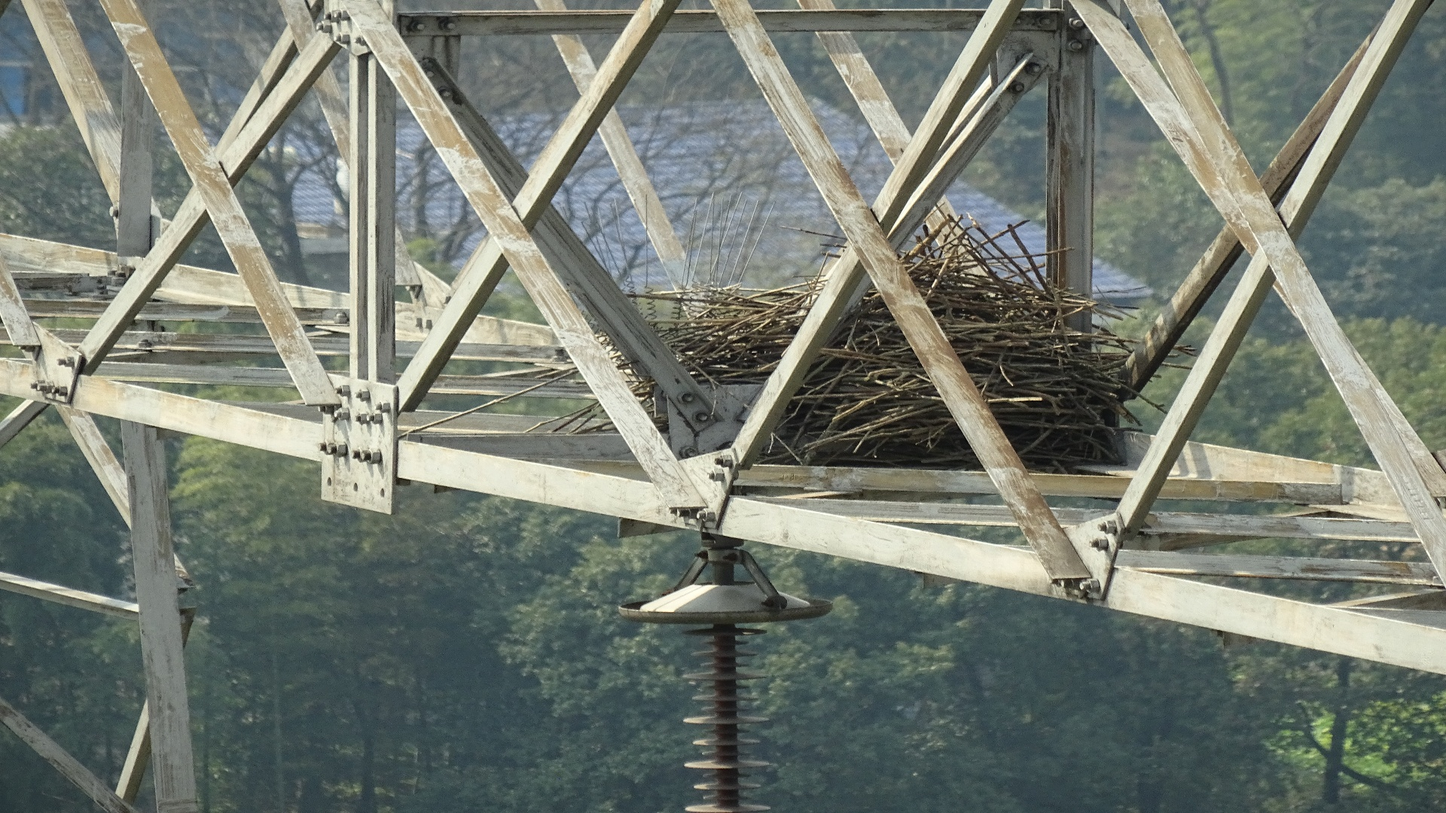insulator: (676, 620, 776, 813)
